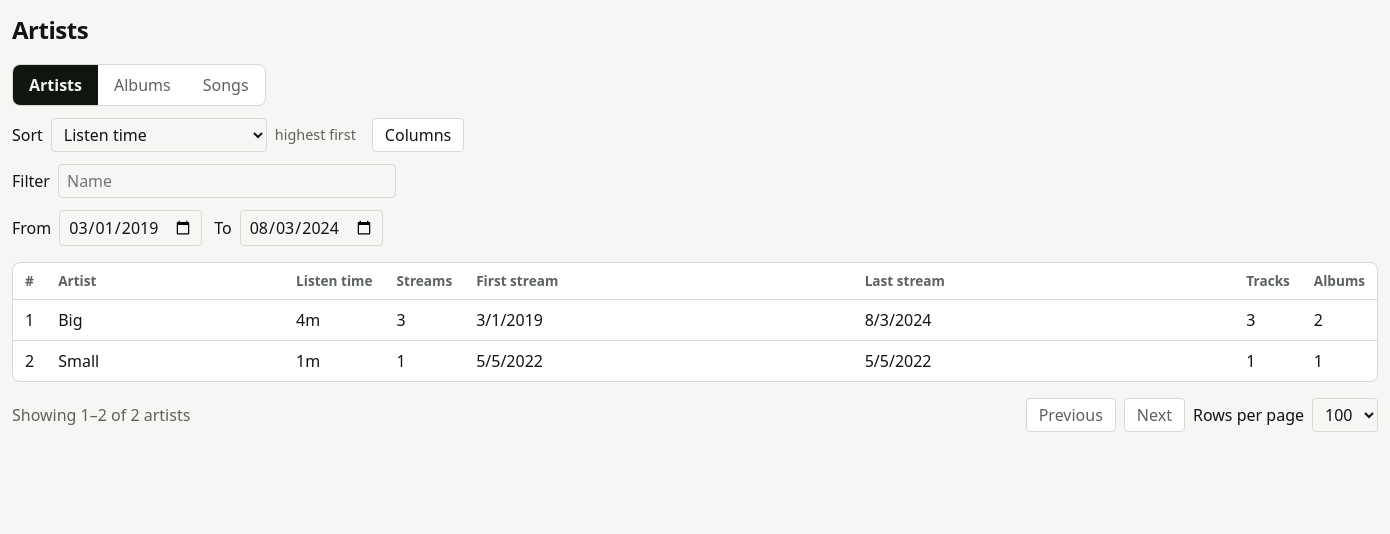
Scenario: DataPage › locks listen time and still shows streams by default
expect the table named "Top artists by listen time" is shown: met, box [13, 263, 1377, 381]
expect the column heading "Streams" is shown: met, box [384, 263, 464, 300]
Click the button "Columns": click(418, 135) [372, 118, 464, 152]
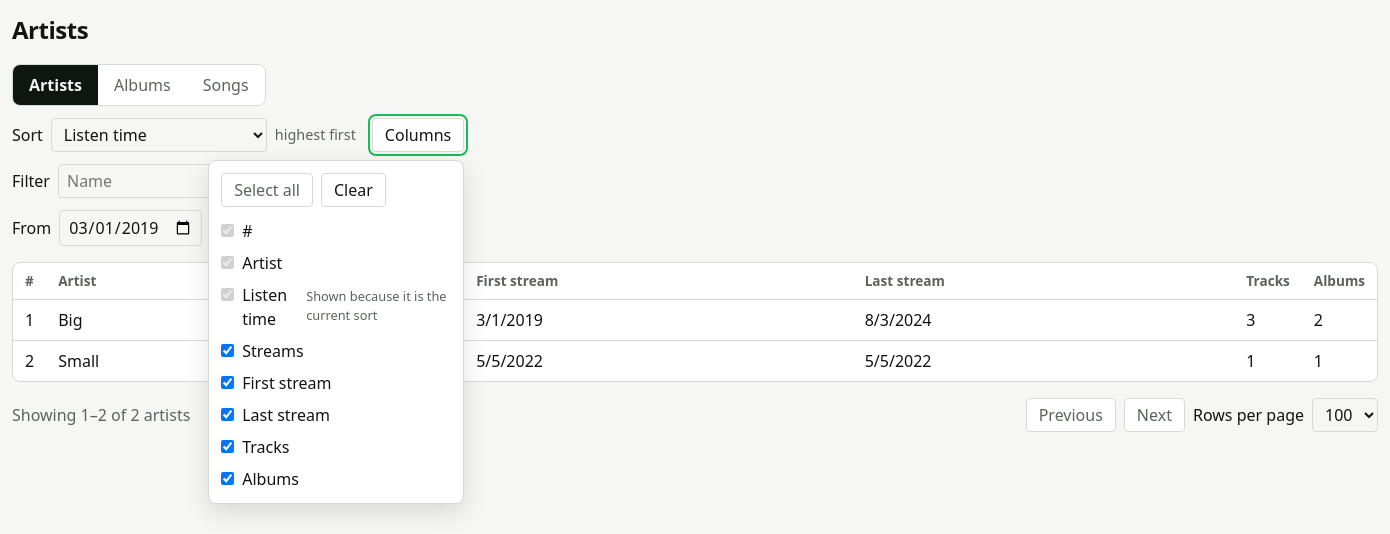
expect the checkbox labelled "Listen time Shown because it is the current sort" is disabled: met, box [221, 288, 234, 301]
expect the checkbox labelled "Streams" is enabled: met, box [221, 344, 234, 357]
expect the checkbox labelled "Artist" is disabled: met, box [221, 256, 234, 269]
